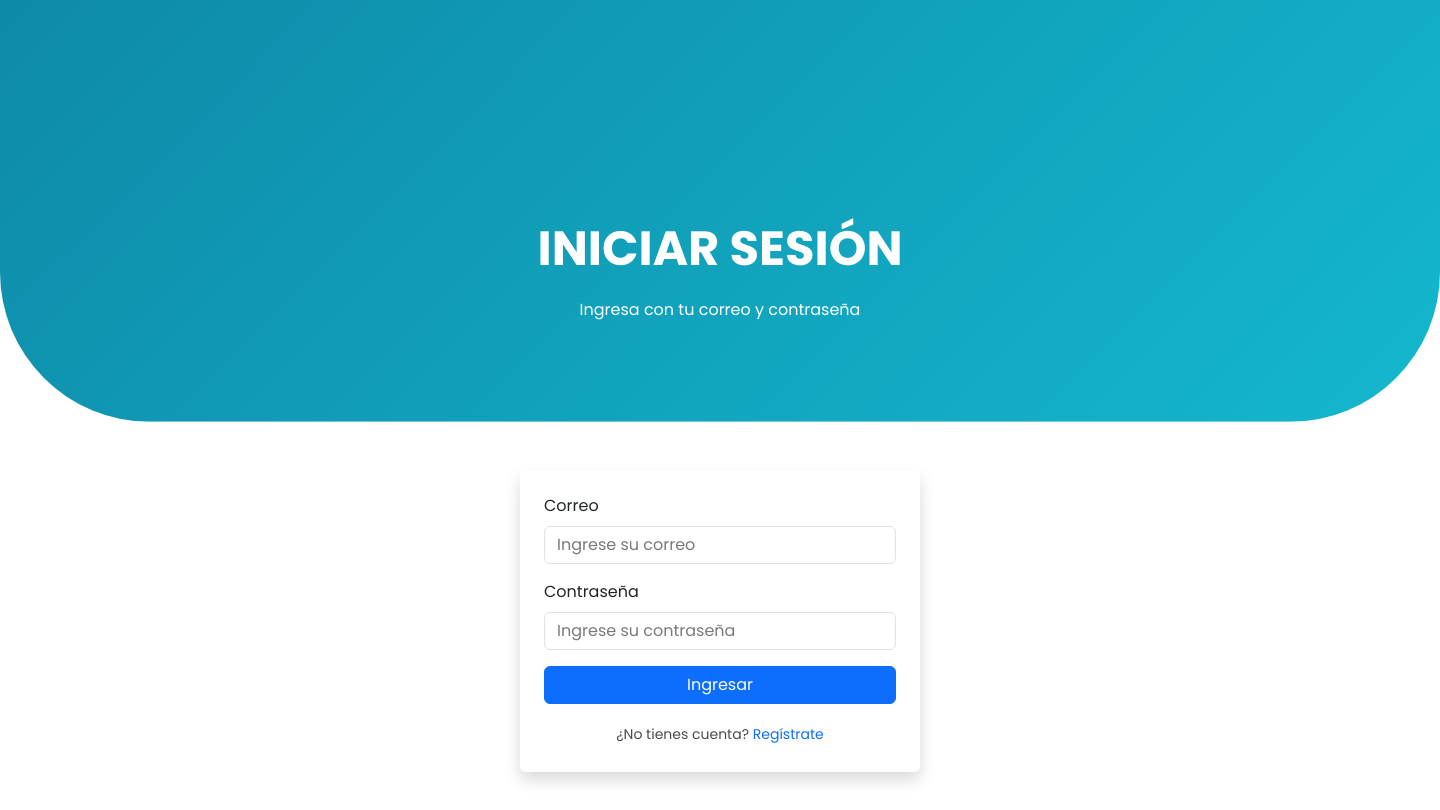
Test: Página Login › al enviar vacío muestra los errores de validación
The width and height of the screenshot is (1440, 810).
Click the button "Ingresar": {"x": 720, "y": 685} [544,666,896,704]
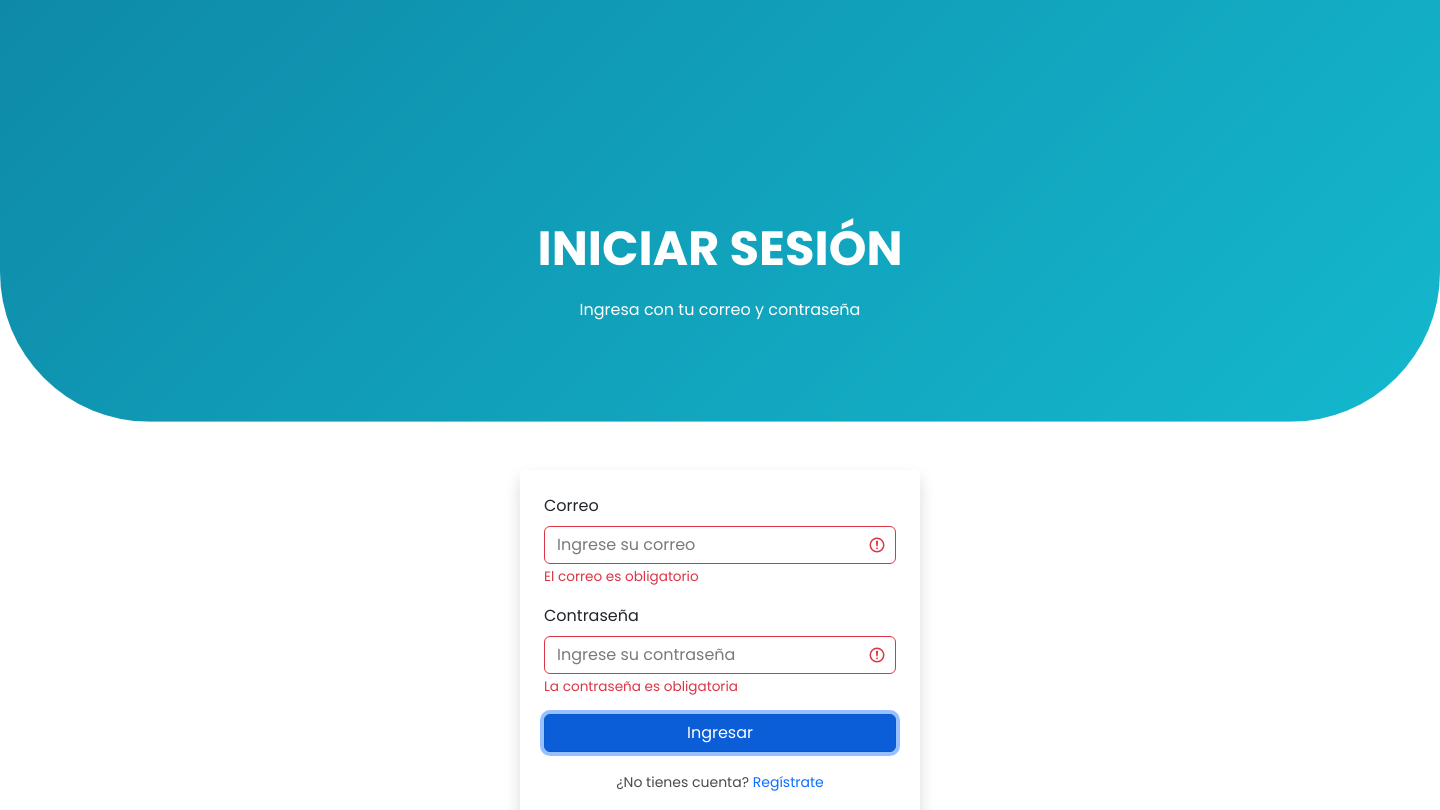
Result: the text "El correo es obligatorio" is shown at [544,567,699,586]
Result: the text "La contraseña es obligatoria" is shown at [544,677,738,696]
